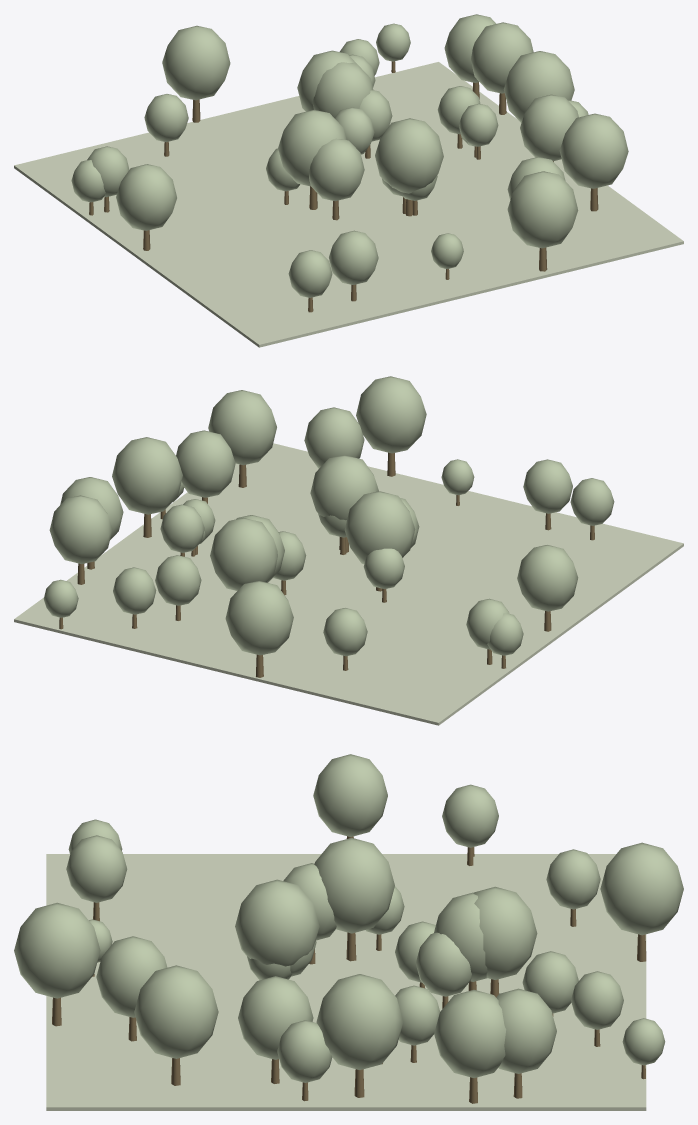
The picture shows the model from 3 angles, top to bottom: view 1: azimuth 30°, elevation 25°; view 2: azimuth 150°, elevation 25°; view 3: azimuth 270°, elevation 25°; orthographic projection. The views are drawn at different scales.
Parts seen in each view (by area): view 1: terrain, lod-near-9, lod-near-29, lod-near-17, lod-near-24, lod-near-18, lod-near-21, lod-near-16, lod-near-25, lod-near-11, lod-near-5, lod-near-10 (+16 smaller); view 2: terrain, lod-near-21, lod-near-9, lod-near-24, lod-near-12, lod-near-16, lod-near-29, lod-near-2, lod-near-18, lod-near-11, lod-near-17, lod-near-26 (+14 smaller); view 3: terrain, lod-near-9, lod-near-21, lod-near-29, lod-near-24, lod-near-17, lod-near-16, lod-near-25, lod-near-18, lod-near-12, lod-near-11, lod-near-2 (+16 smaller).
Part boxes in pixels (bbox=[...]): terrain: bbox=[14, 62, 683, 347]; lod-near-9: bbox=[507, 171, 578, 248]; lod-near-29: bbox=[559, 113, 628, 188]; lod-near-17: bbox=[375, 118, 443, 193]; lod-near-24: bbox=[162, 25, 230, 100]; lod-near-18: bbox=[116, 164, 176, 230]; lod-near-21: bbox=[503, 51, 574, 122]; lod-near-16: bbox=[278, 110, 346, 186]; lod-near-25: bbox=[471, 22, 533, 93]; lod-near-11: bbox=[520, 94, 578, 161]; lod-near-5: bbox=[309, 138, 364, 201]; lod-near-10: bbox=[312, 62, 373, 117]; terrain: bbox=[14, 443, 683, 725]; lod-near-21: bbox=[112, 437, 182, 514]; lod-near-9: bbox=[356, 376, 426, 453]; lod-near-24: bbox=[225, 581, 293, 655]; lod-near-12: bbox=[210, 517, 277, 590]; lod-near-16: bbox=[344, 491, 415, 563]; lod-near-29: bbox=[208, 390, 276, 465]; lod-near-2: bbox=[49, 495, 112, 564]; lod-near-18: bbox=[517, 545, 578, 611]; lod-near-11: bbox=[176, 430, 235, 497]; lod-near-17: bbox=[310, 455, 378, 520]; lod-near-26: bbox=[304, 407, 364, 468]; terrain: bbox=[46, 854, 646, 1110]; lod-near-9: bbox=[14, 902, 100, 998]; lod-near-21: bbox=[316, 974, 403, 1069]; lod-near-29: bbox=[134, 965, 218, 1058]; lod-near-24: bbox=[600, 842, 683, 935]; lod-near-17: bbox=[235, 879, 319, 966]; lod-near-16: bbox=[314, 838, 394, 933]; lod-near-25: bbox=[434, 989, 506, 1077]; lod-near-18: bbox=[313, 754, 387, 836]; lod-near-12: bbox=[473, 886, 537, 979]; lod-near-11: bbox=[238, 976, 313, 1059]; lod-near-2: bbox=[496, 988, 556, 1073].
Bounding box in the file's own units: 34.75 × 7.32 × 35.74.
